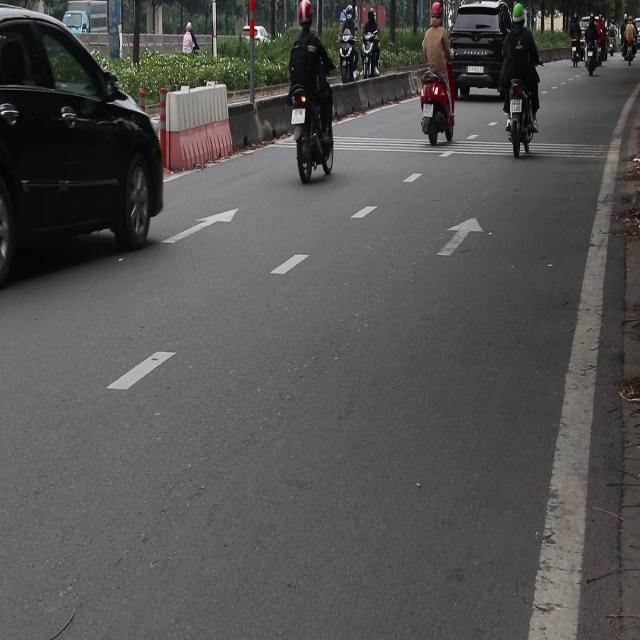car: (0, 2, 166, 301), (450, 0, 524, 103), (232, 16, 274, 59)
motorbike: (292, 85, 336, 184), (418, 70, 456, 144), (501, 82, 535, 162), (337, 30, 361, 96), (365, 18, 381, 92), (571, 38, 587, 68), (585, 50, 597, 80), (626, 43, 636, 72), (606, 30, 612, 63)
truck: (58, 0, 107, 42)
